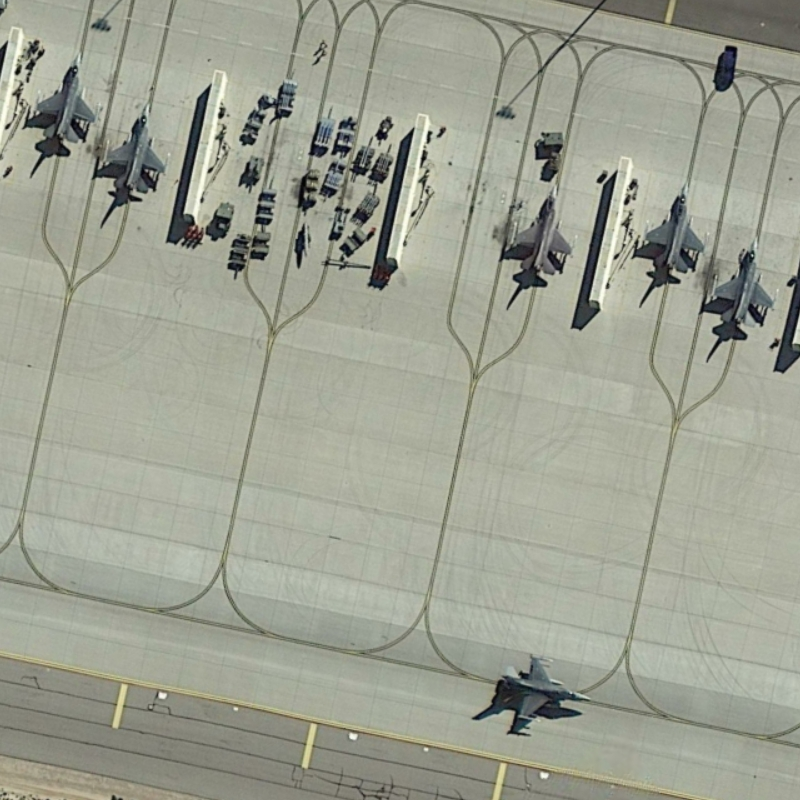A5: (481, 644, 597, 739), (697, 232, 779, 350), (496, 175, 578, 291), (20, 41, 100, 153), (97, 97, 171, 203), (639, 171, 706, 283)
